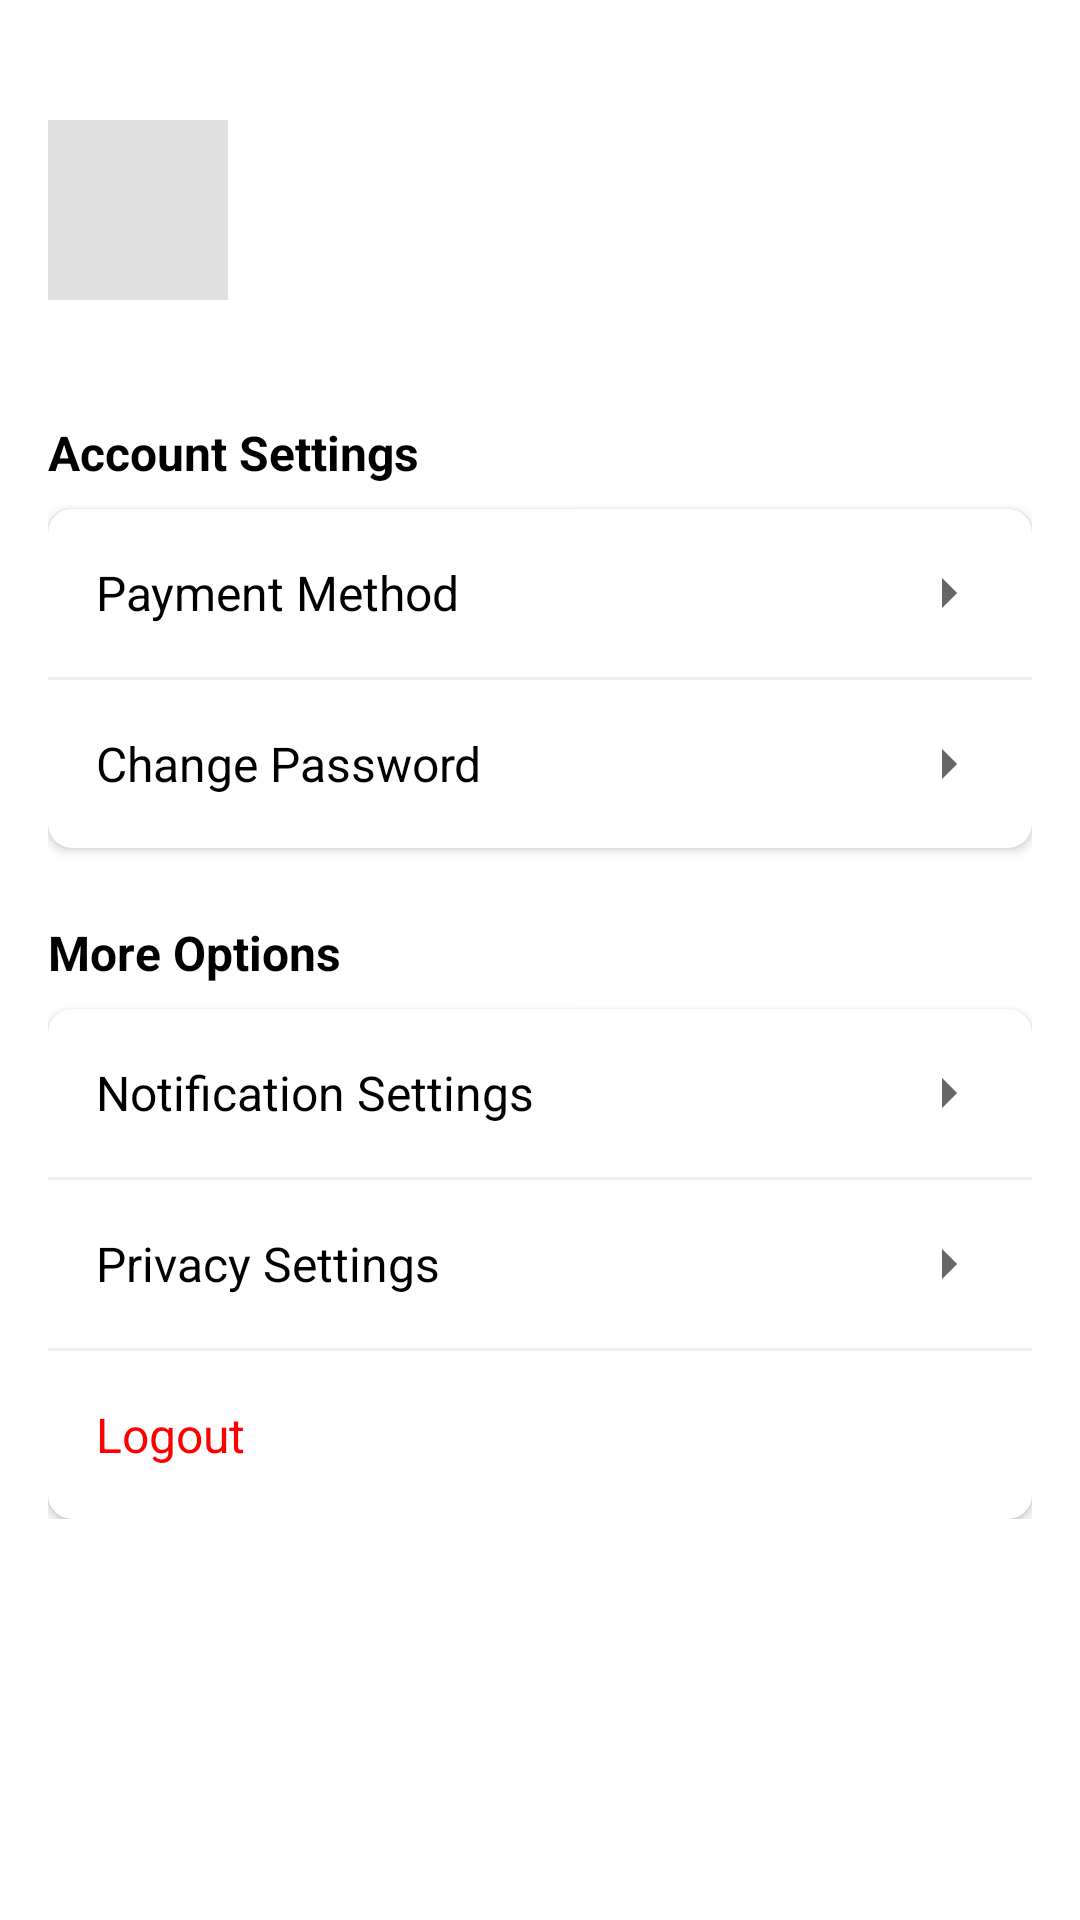

Icon bounding boxes for this 1080 × 1920 phone screenshot, format (x1, y1, x2, y2):
arrow forward: (942, 578, 957, 608), (942, 749, 957, 779), (942, 1078, 957, 1108), (942, 1249, 957, 1279)
